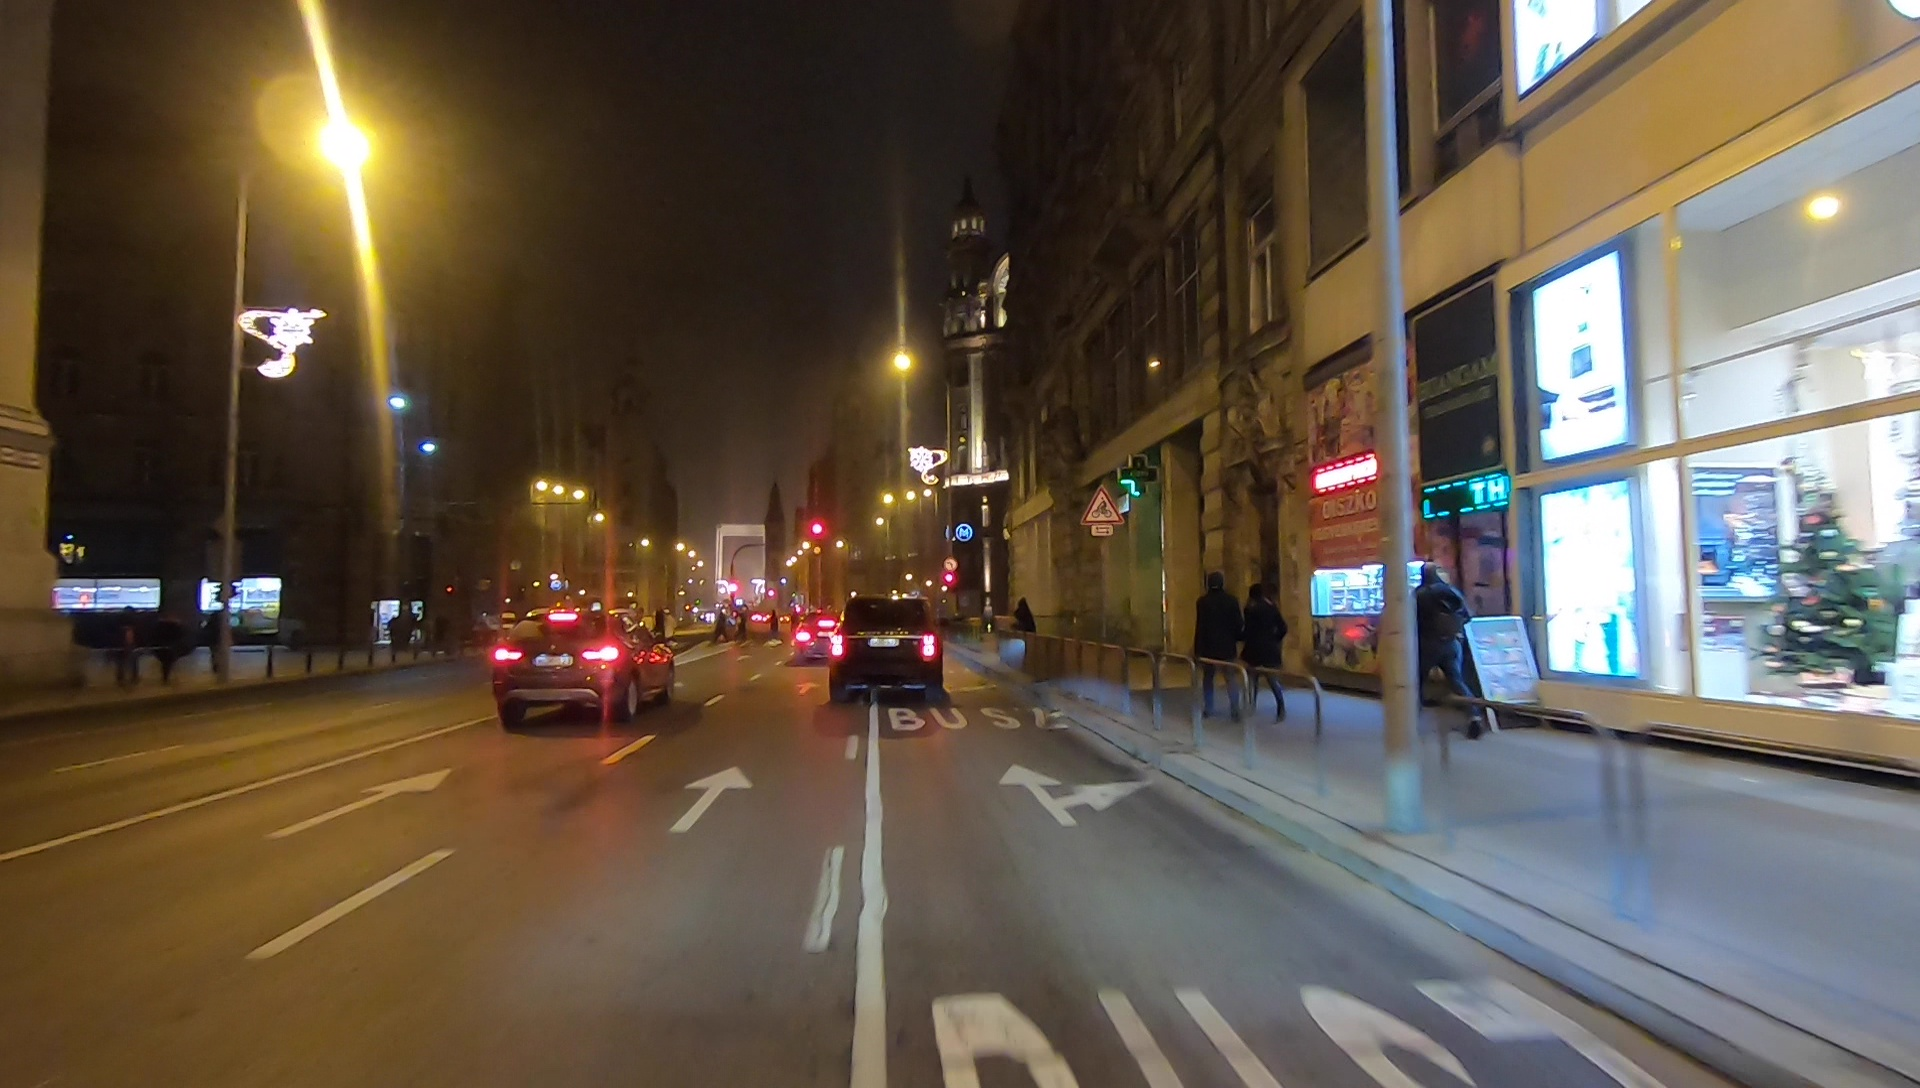person: (1414, 563, 1484, 736), (1193, 571, 1243, 723), (1243, 586, 1289, 726), (711, 603, 728, 645), (767, 610, 780, 649), (736, 603, 749, 641)
